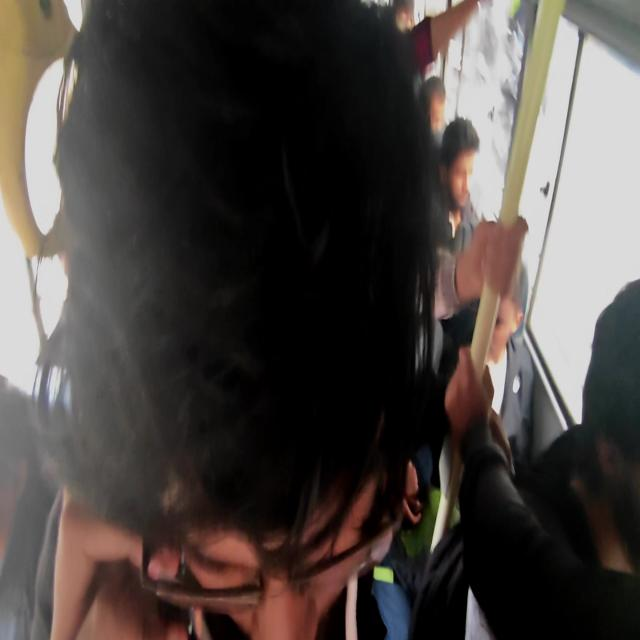person: (78, 9, 419, 615), (585, 310, 640, 640), (480, 270, 534, 385), (446, 121, 488, 224), (0, 419, 38, 523), (427, 76, 447, 128)
